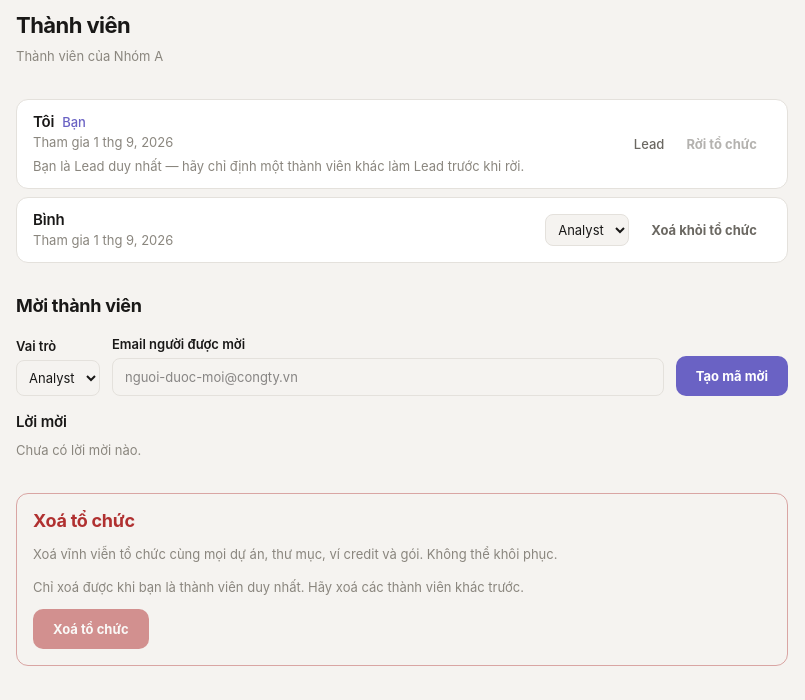
Test: trang thành viên — Lead › tạo mã mời thì hiện mã thô đúng một lần
Select "Viewer" in the dropdown labelled "Vai trò" at (58, 378), box x1=16 y1=360 x2=100 y2=396
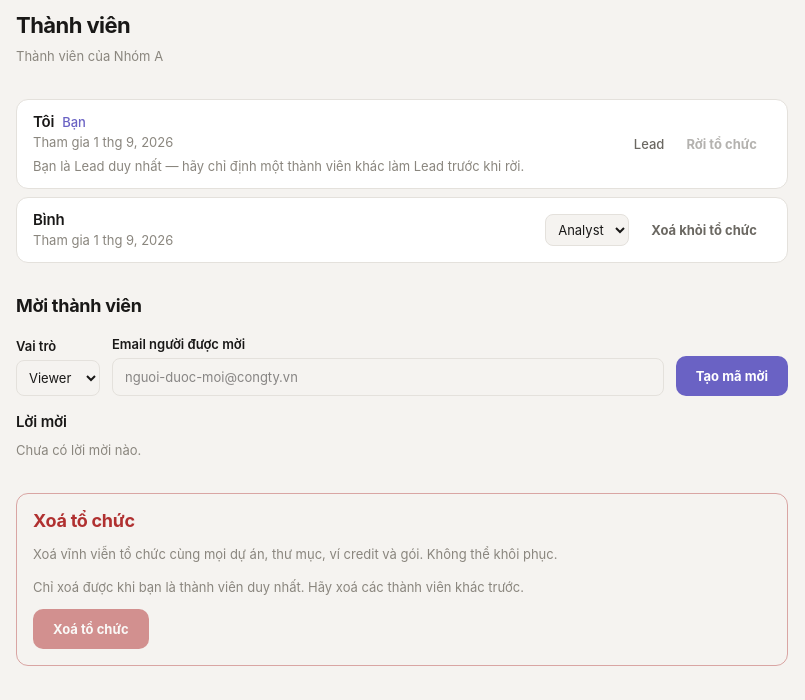
Type "moi@flintflow.test" into the field labelled "Email người được mời" at (388, 377), box x1=112 y1=358 x2=664 y2=396
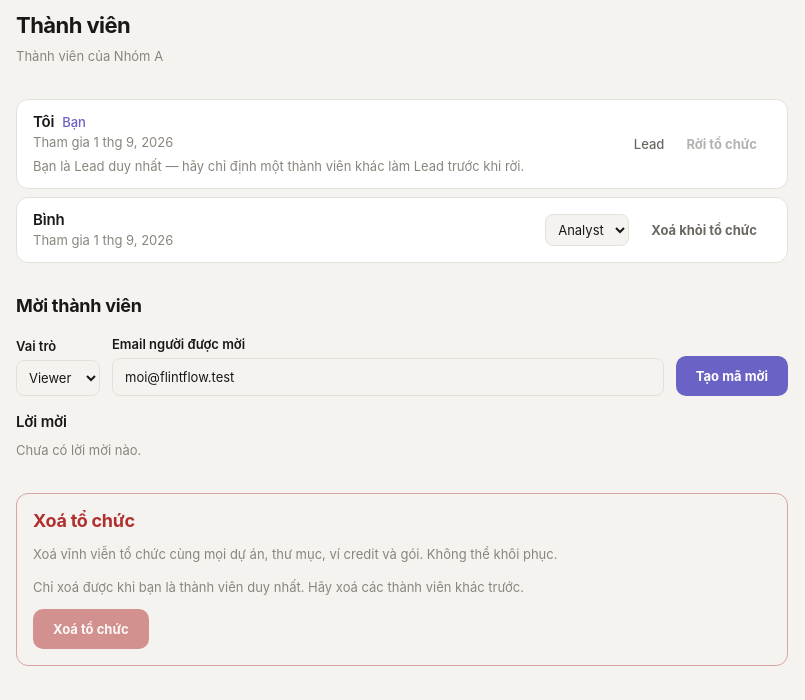
Click the button "Tạo mã mời" at (732, 376), box x1=676 y1=356 x2=788 y2=396
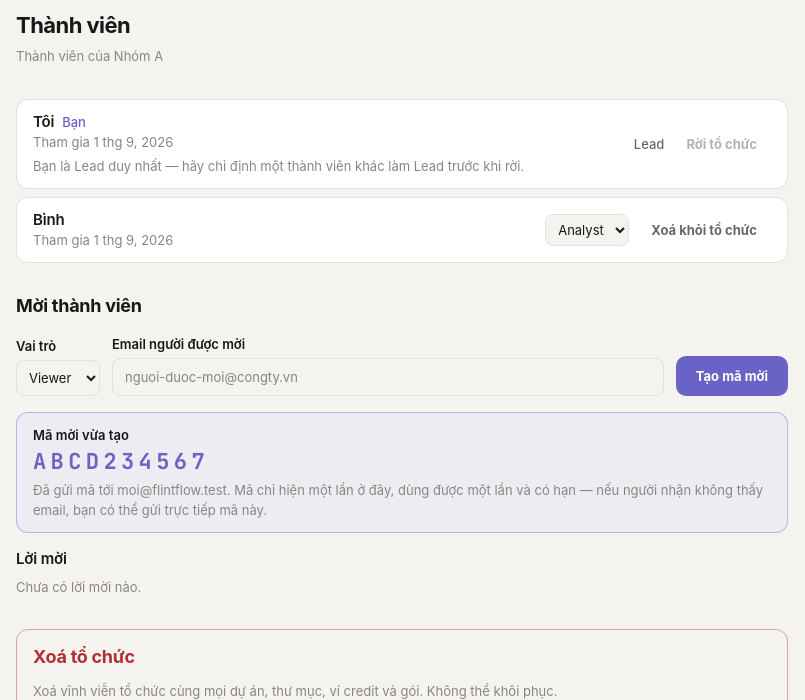
expect the text with test id "invite-code" reads "ABCD234567": met, box x1=33 y1=447 x2=209 y2=476
